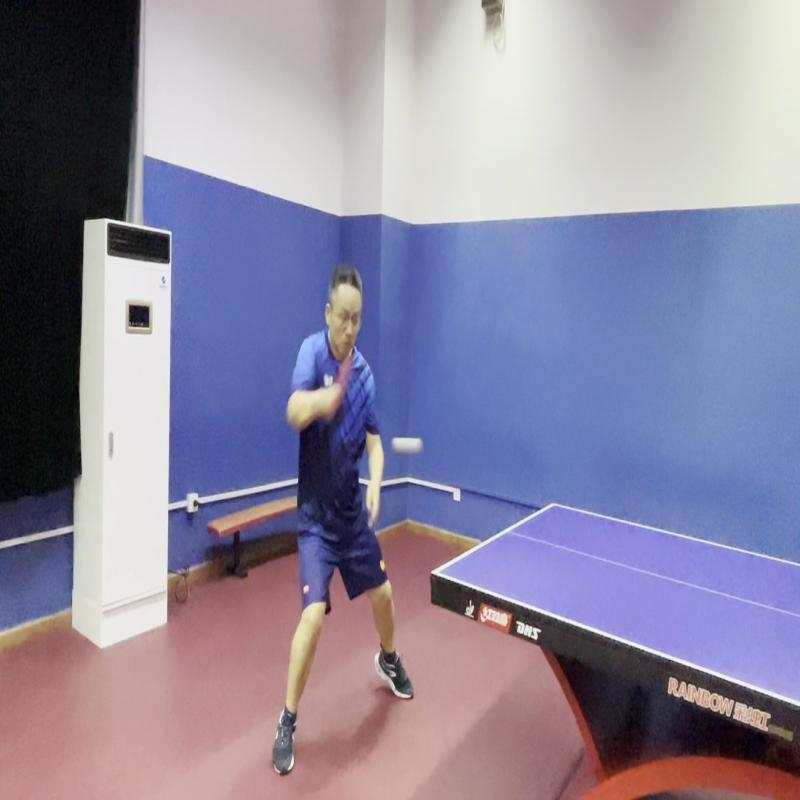bats: (328, 346, 358, 419)
